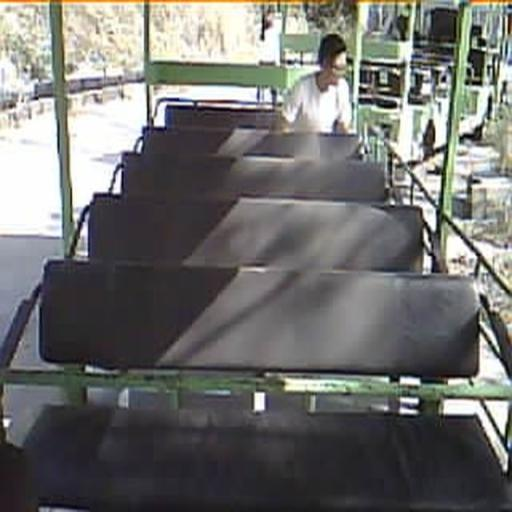persona: (280, 32, 354, 135)
